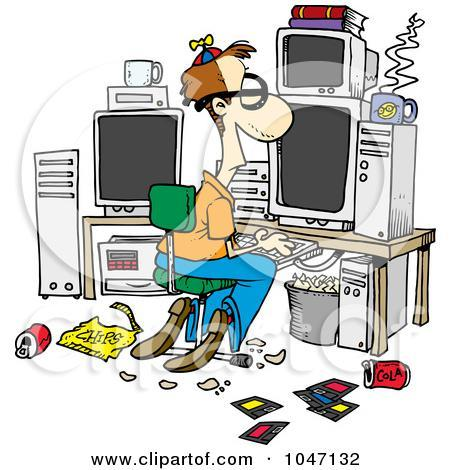chair: (145, 181, 255, 372)
person: (130, 43, 295, 375)
tvmonitor: (266, 92, 416, 242), (88, 111, 184, 218), (274, 24, 382, 102)
